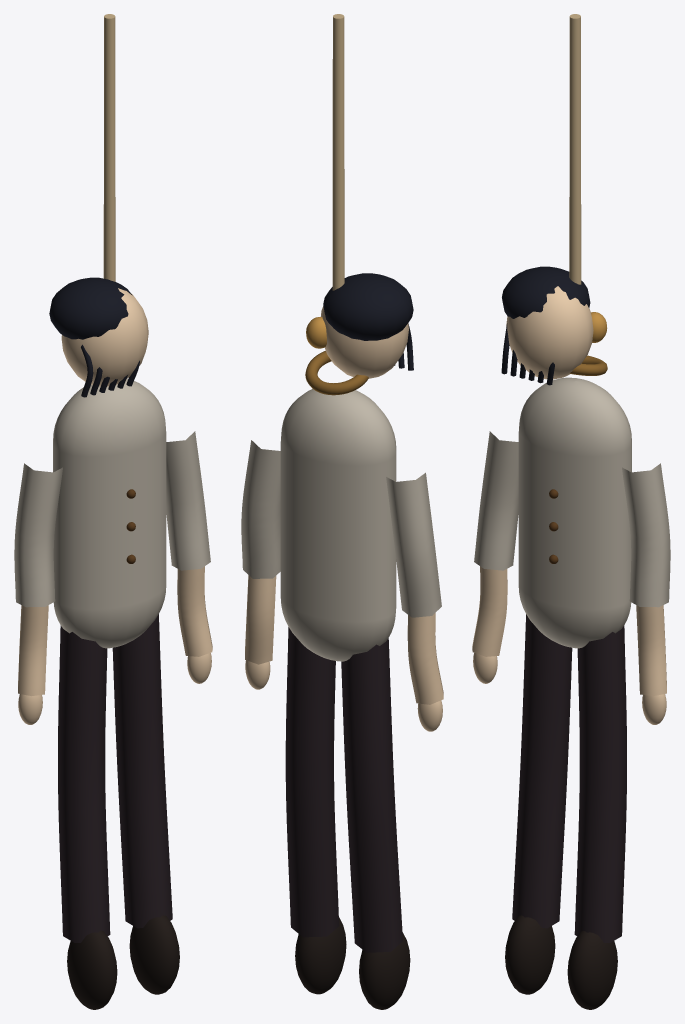
Rendered from mia-hanging_dummy.glb.
The picture shows the model from 3 angles, left to right: view 1: azimuth 30°, elevation 25°; view 2: azimuth 150°, elevation 25°; view 3: azimuth 330°, elevation 25°; orthographic projection. The views are drawn at different scales.
Parts seen in each view (by area): view 1: Body_dummy-shirt, Body_leather, Body_face, Body_black, Body_hair, Body_canvas; view 2: Body_dummy-shirt, Body_leather, Body_face, Body_black, Body_hair, Body_canvas, Body_hay-dark, Body_hay-mid; view 3: Body_dummy-shirt, Body_leather, Body_face, Body_black, Body_hair, Body_canvas, Body_hay-dark.
Part boxes in pixels (<box>): Body_dummy-shirt: <box>14,379,210,648</box>; Body_leather: <box>58,614,172,942</box>; Body_face: <box>18,288,212,724</box>; Body_black: <box>67,915,179,1009</box>; Body_hair: <box>49,277,139,397</box>; Body_canvas: <box>103,14,115,281</box>; Body_dummy-shirt: <box>241,389,441,661</box>; Body_leather: <box>285,627,402,952</box>; Body_face: <box>245,306,443,731</box>; Body_black: <box>295,917,410,1009</box>; Body_hair: <box>323,273,413,370</box>; Body_canvas: <box>332,14,344,290</box>; Body_hay-dark: <box>305,351,368,395</box>; Body_hay-mid: <box>306,317,326,348</box>; Body_dummy-shirt: <box>474,377,670,648</box>; Body_leather: <box>512,614,626,942</box>; Body_face: <box>472,286,666,724</box>; Body_black: <box>505,915,617,1009</box>; Body_hair: <box>501,266,590,385</box>; Body_canvas: <box>569,14,581,284</box>; Body_hay-dark: <box>569,355,607,375</box>.
Size of the model in its own units: 0.5601 by 2.68 by 0.2616.
